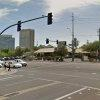Traffic light: (12, 10, 57, 38)
